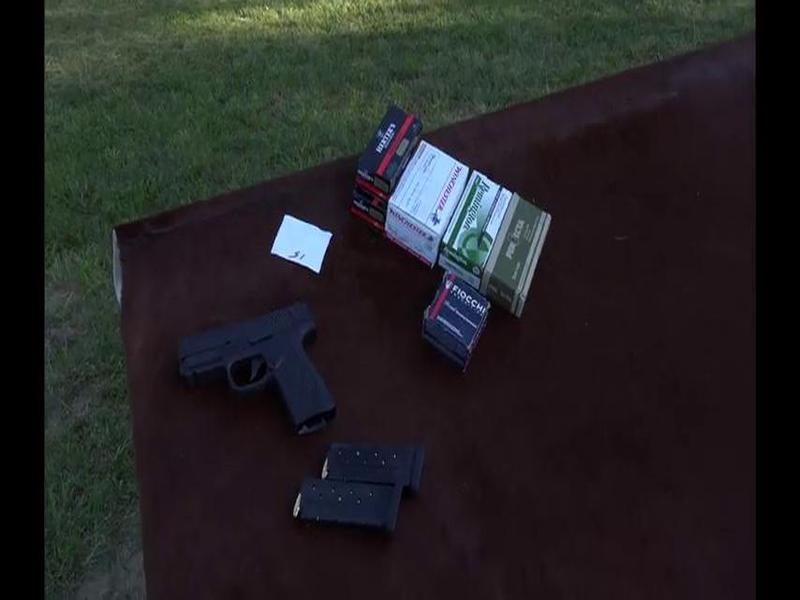Pistola: (161, 314, 377, 437)
